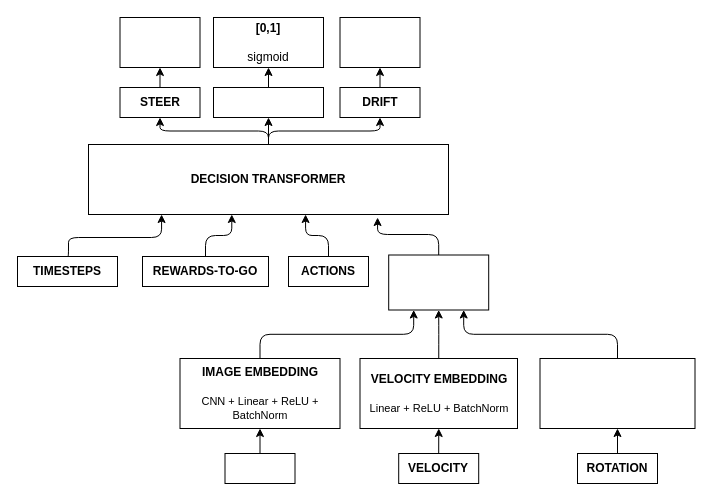
Some shapes in this 713 by 501 pixel diagram are drawn without their labels. The centre of each missing label's shape, as x and y in pixels:
"[-1,1] tanh" goes at (x=159, y=42).
"ACCELERATION" goes at (x=268, y=102).
"boolean drift > 0" goes at (x=379, y=42).
"IMAGE" goes at (x=259, y=468).
"ROTATION EMBEDDING Linear + ReLU + BatchNorm" goes at (x=617, y=393).
"STATES concatenate" goes at (x=438, y=282).
